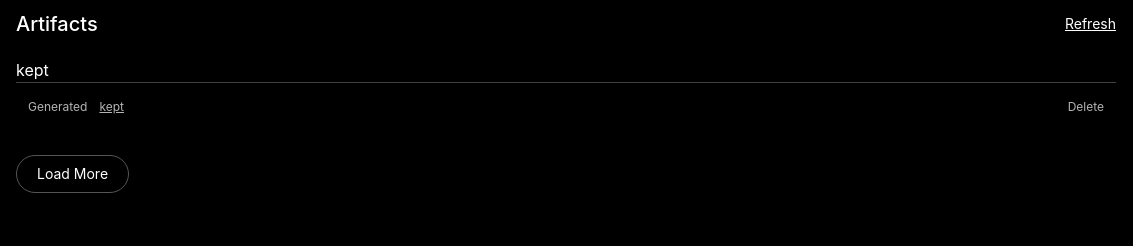
keeps a loaded page available after a failed Load More and allows retry
This screenshot has width=1133, height=246.
Click the button "Load More".
click(73, 174)  # box [16, 155, 129, 193]
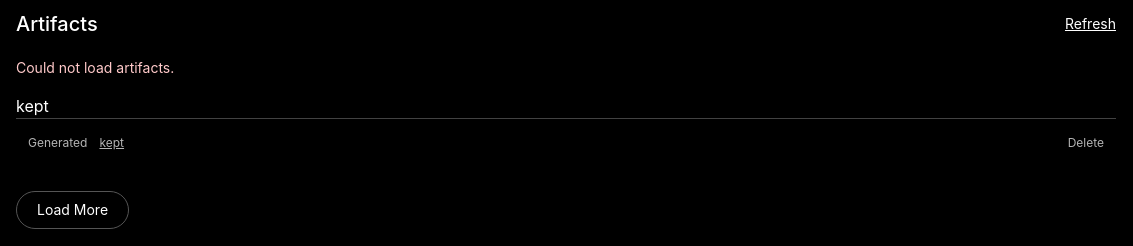
Expected: the number of elements with class "artifact-card" is 1, [16, 94, 1116, 167]
Expected: the message "Could not load artifacts." is shown, [16, 59, 174, 76]
Click the button "Load More".
click(73, 210)  # box [16, 191, 129, 229]
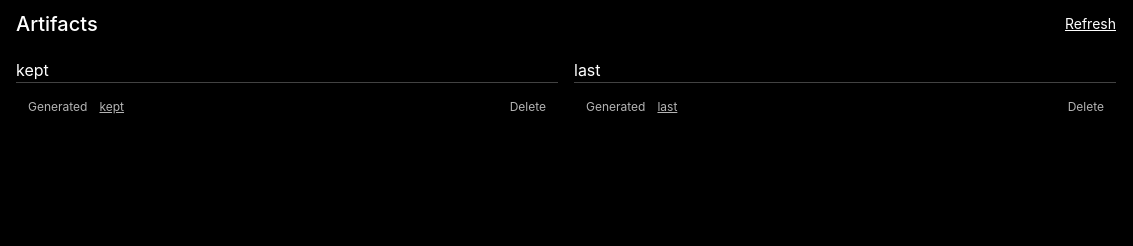
Expected: the number of elements with class "artifact-card" is 2, [16, 58, 558, 131]; [574, 58, 1116, 131]
